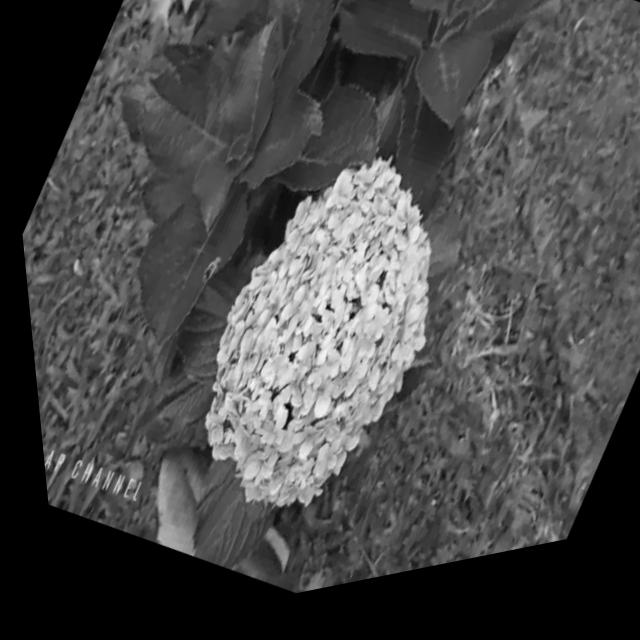Flower: (130, 103, 509, 567)
